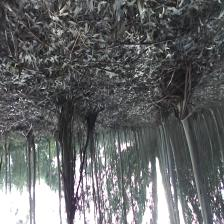trunk: (180, 110, 212, 218), (58, 118, 75, 218), (160, 114, 178, 192), (31, 138, 37, 216)
